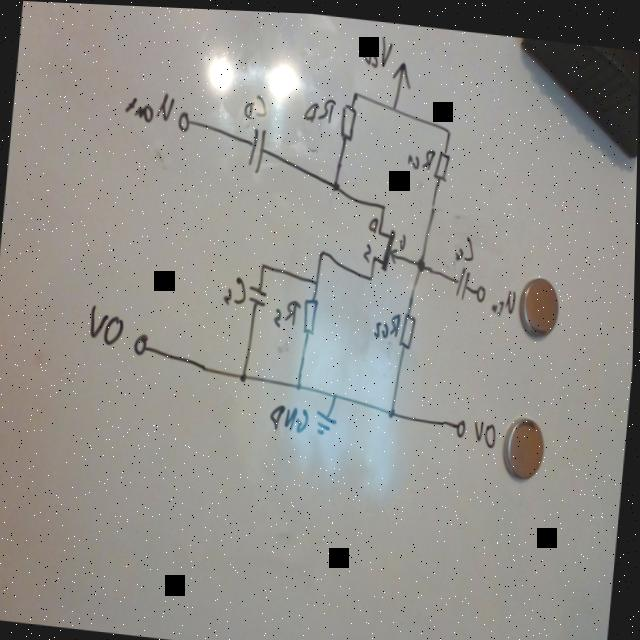capacitor: (244, 121, 269, 170), (453, 260, 472, 294), (247, 280, 269, 304)
ground: (315, 404, 340, 432)
junction: (415, 250, 428, 267), (388, 400, 399, 415), (331, 174, 342, 188), (239, 366, 248, 380), (443, 120, 454, 131), (318, 242, 327, 253), (331, 385, 340, 395), (296, 375, 304, 386), (352, 84, 359, 96), (368, 269, 376, 279), (260, 256, 267, 266), (314, 273, 321, 282), (391, 98, 398, 107), (381, 197, 387, 206)
resistor: (338, 96, 359, 136), (302, 290, 321, 331), (400, 306, 418, 343), (433, 143, 451, 176)
source: (390, 55, 413, 83)
terminal: (132, 327, 152, 355), (175, 105, 192, 131), (456, 411, 469, 432), (476, 277, 488, 298)
text: (123, 84, 176, 121), (86, 301, 126, 344), (270, 398, 311, 429), (361, 28, 393, 65), (303, 91, 337, 120), (373, 303, 402, 336), (273, 293, 303, 324), (491, 280, 518, 313), (223, 271, 248, 304), (407, 141, 436, 166), (474, 413, 499, 442), (243, 90, 268, 115), (454, 229, 477, 256), (368, 209, 380, 228), (363, 236, 372, 258), (398, 227, 408, 246)
transistor: (371, 220, 401, 267)
